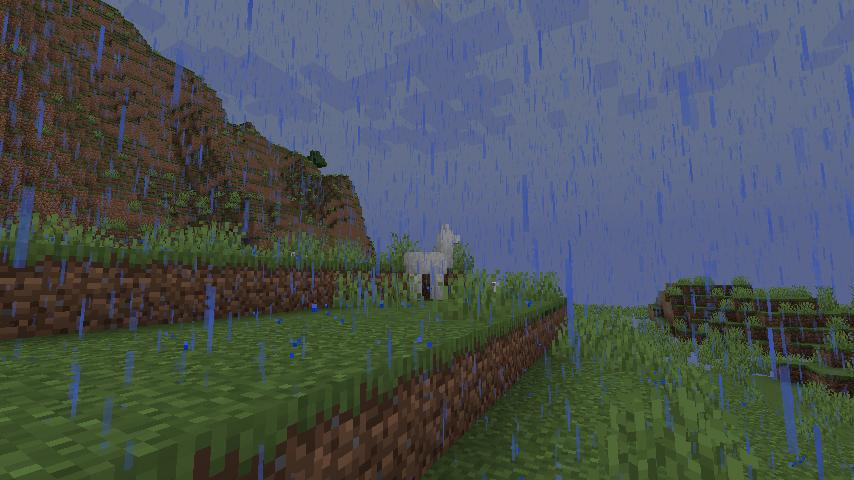llama: (402, 218, 467, 305)
